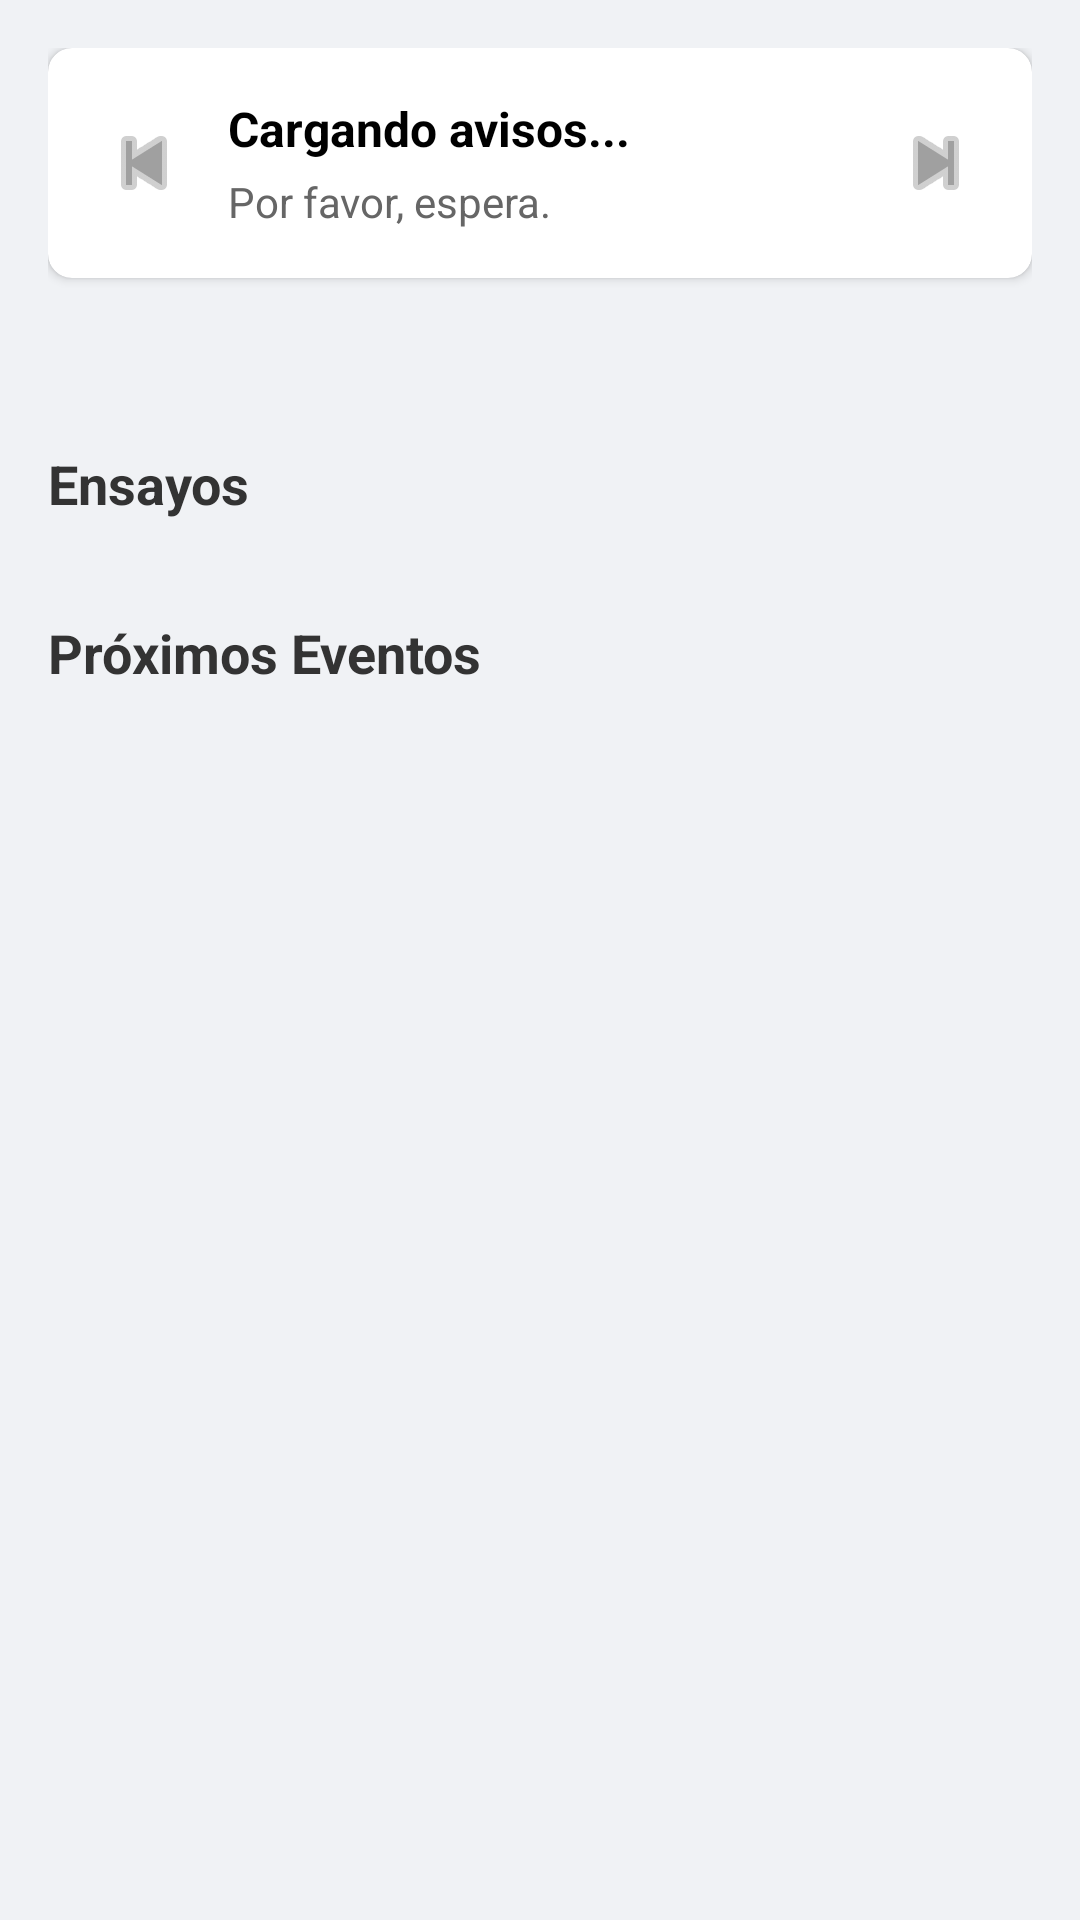

Icon bounding boxes for this 1080px x 1920px phone screenshot, format (x1, y1, x2, y2):
Noticia anterior: (121, 136, 167, 190)
Noticia siguiente: (913, 136, 959, 190)
